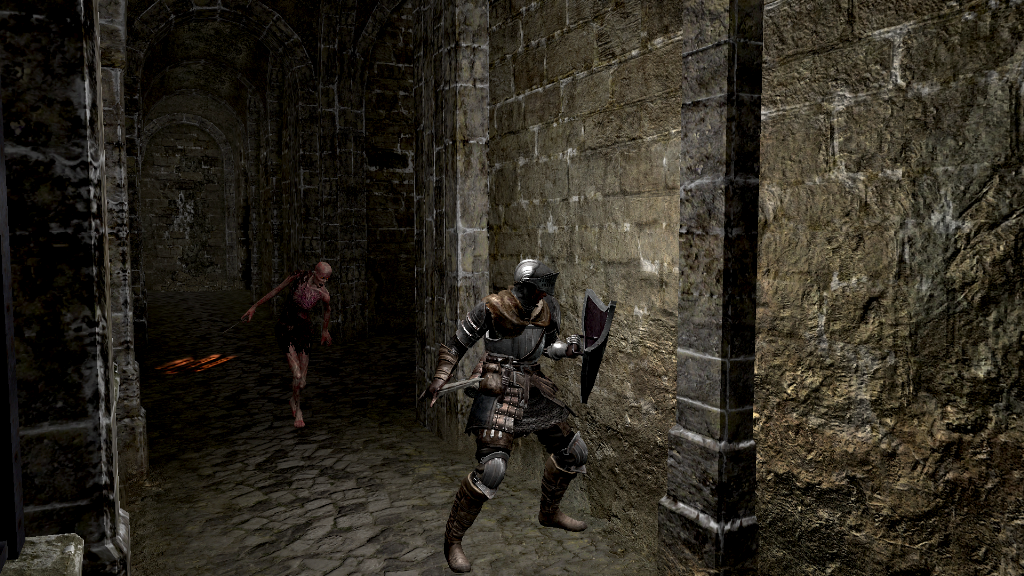hollow: (240, 260, 332, 428)
player: (416, 258, 620, 576)
